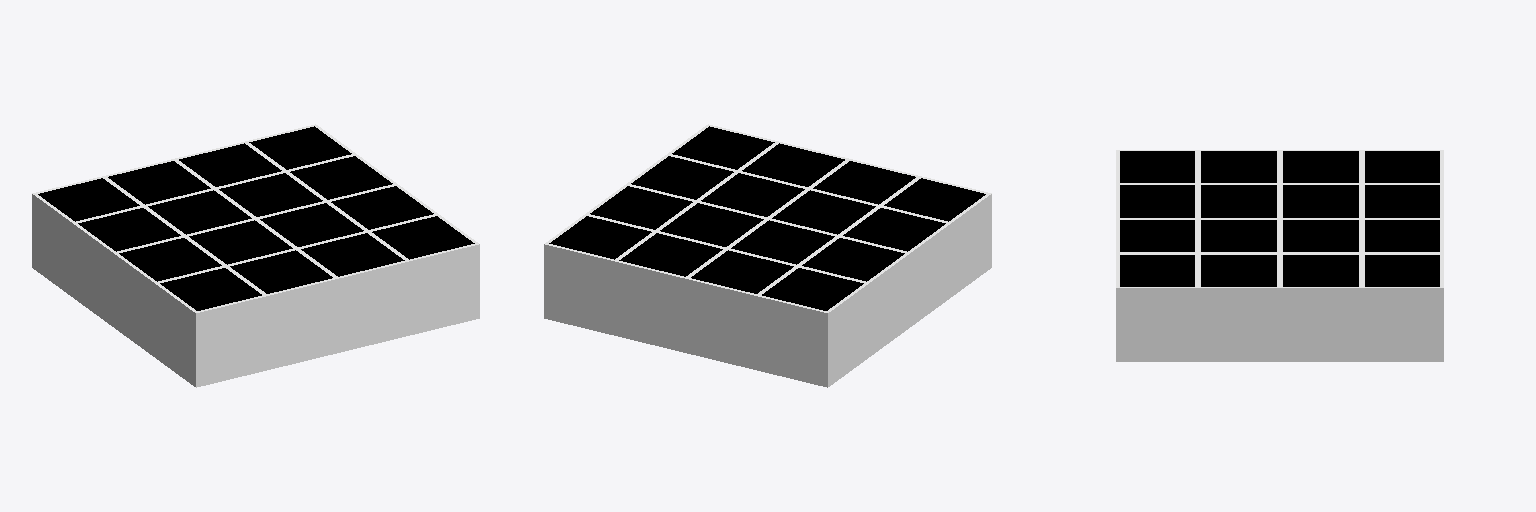
3 renders of one model, left to right at view 1: azimuth 30°, elevation 25°; view 2: azimuth 150°, elevation 25°; view 3: azimuth 270°, elevation 25°, orthographic.
Visible parts, largest first — view 1: Cube; view 2: Cube; view 3: Cube.
Boxes of the visible parts, x1=… form: Cube: x1=32, y1=124, x2=479, y2=387; Cube: x1=544, y1=124, x2=991, y2=387; Cube: x1=1116, y1=150, x2=1443, y2=361.
Bounding box in the file's own units: 4 × 1 × 4.
Materials: 1 (1 with a texture image).